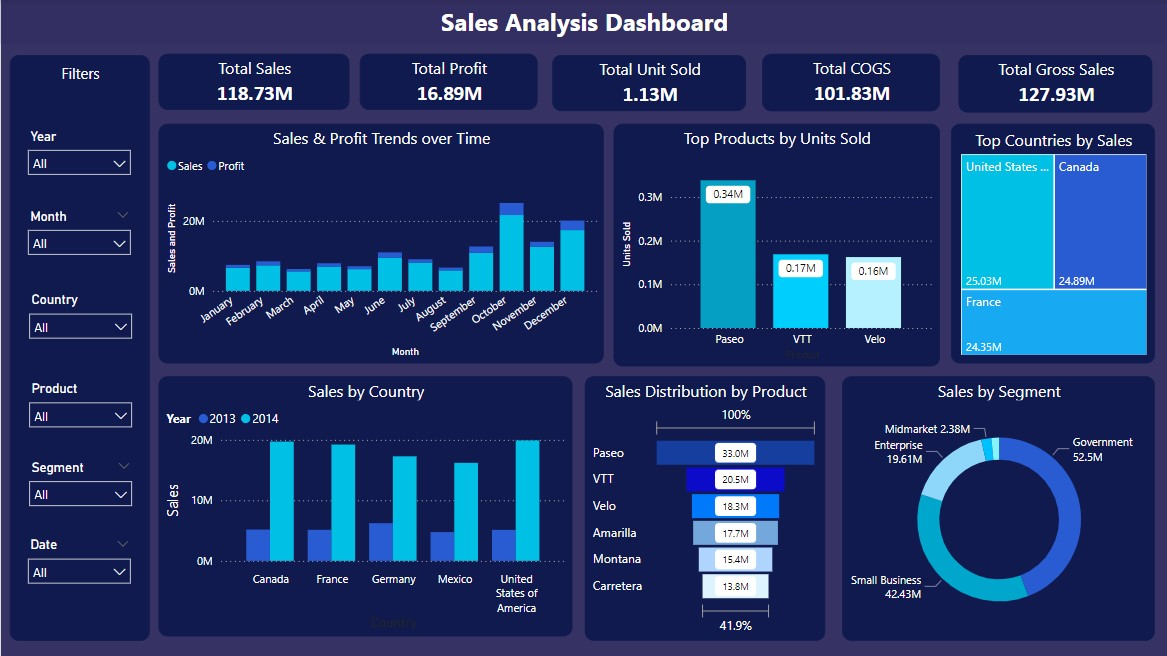

Layout of this report page (visuals, bound fields, positions):
{"tool":"powerbi","page":{"name":"Sales Overview","canvas":[1280,720],"ordinal":0},"visuals":[{"type":"textbox","box":[0,0,1279.8,48.8],"z":0},{"type":"card","title":"Total Sales","fields":{"Values":["Sum(financials. Sales)"]},"box":[172.6,59.5,209.5,61.9],"z":1000},{"type":"card","title":"Total Profit","fields":{"Values":["Sum(financials.Profit)"]},"box":[394,59.5,195.2,61.9],"z":2000},{"type":"card","title":"Total Unit Sold","fields":{"Values":["Sum(financials.Units Sold)"]},"box":[604.8,60.7,213.1,61.9],"z":3000},{"type":"card","title":"Total COGS","fields":{"Values":["Sum(financials.COGS)"]},"box":[835.7,59.5,195.2,63.1],"z":4000},{"type":"columnChart","title":"Sales & Profit Trends over Time ","fields":{"Category":["financials.Month Name","financials.Country","financials.Segment","financials.Product"],"Y":["Sum(financials. Sales)","Sum(financials.Profit)"]},"box":[172.9,135.8,488.5,263.5],"z":5000},{"type":"clusteredColumnChart","title":" Sales by Country","fields":{"Y":["Sum(financials. Sales)"],"Category":["financials.Country","financials.Segment","financials.Product"],"Series":["financials.Year"]},"box":[172.9,413,454.2,285.4],"z":6000},{"type":"funnel","title":"Sales Distribution by Product","fields":{"Category":["financials.Product"],"Y":["Sum(financials. Sales)"]},"box":[640.5,413.1,264.3,290.5],"z":7000},{"type":"treemap","title":"Top Countries by Sales","fields":{"Group":["financials.Country"],"Values":["Sum(financials. Sales)"]},"box":[1042.9,135.7,223.8,263.1],"z":8000},{"type":"donutChart","title":"Sales by Segment","fields":{"Category":["financials.Segment"],"Y":["Sum(financials. Sales)"]},"box":[923.8,413.1,342.9,290.5],"z":9000},{"type":"card","title":"Total Gross Sales","fields":{"Values":["Sum(financials.Gross Sales)"]},"box":[1051.2,60.7,213.1,63.1],"z":10000},{"type":"textbox","box":[9.5,60.7,153.6,642.9],"z":11000},{"type":"slicer","fields":{"Values":["financials.Year"]},"box":[19,135.7,133.3,66.7],"z":12000},{"type":"slicer","fields":{"Values":["financials.Month Name"]},"box":[19,223.8,133.3,66.7],"z":13000},{"type":"slicer","fields":{"Values":["financials.Country"]},"box":[20.2,315.5,133.3,66.7],"z":14000},{"type":"slicer","fields":{"Values":["financials.Product"]},"box":[20.2,413.1,133.3,66.7],"z":15000},{"type":"slicer","fields":{"Values":["financials.Segment"]},"box":[20.2,500,133.3,66.7],"z":16000},{"type":"clusteredColumnChart","title":"Top Products by Units Sold","fields":{"Category":["financials.Product"],"Y":["Sum(financials.Units Sold)"]},"box":[672.4,135.8,358.1,266.2],"z":17000},{"type":"slicer","fields":{"Values":["financials.Date"]},"box":[19,584.5,133.3,66.7],"z":18000}]}

Visuals, with their boxes in screenshot pixels (x1, y1, x2, y2), scaled from the page's 1280x720 canvas onto the 1167x656 screenshot:
textbox: locate(0, 0, 1166, 44)
"Total Sales" card: locate(157, 54, 348, 111)
"Total Profit" card: locate(359, 54, 537, 111)
"Total Unit Sold" card: locate(551, 55, 746, 112)
"Total COGS" card: locate(762, 54, 940, 112)
"Sales & Profit Trends over Time " columnChart: locate(158, 124, 603, 364)
" Sales by Country" clusteredColumnChart: locate(158, 376, 572, 636)
"Sales Distribution by Product" funnel: locate(584, 376, 825, 641)
"Top Countries by Sales" treemap: locate(951, 124, 1155, 363)
"Sales by Segment" donutChart: locate(842, 376, 1155, 641)
"Total Gross Sales" card: locate(958, 55, 1153, 113)
textbox: locate(9, 55, 149, 641)
slicer - financials.Year: locate(17, 124, 139, 184)
slicer - financials.Month Name: locate(17, 204, 139, 265)
slicer - financials.Country: locate(18, 287, 140, 348)
slicer - financials.Product: locate(18, 376, 140, 437)
slicer - financials.Segment: locate(18, 456, 140, 516)
"Top Products by Units Sold" clusteredColumnChart: locate(613, 124, 940, 366)
slicer - financials.Date: locate(17, 533, 139, 593)
